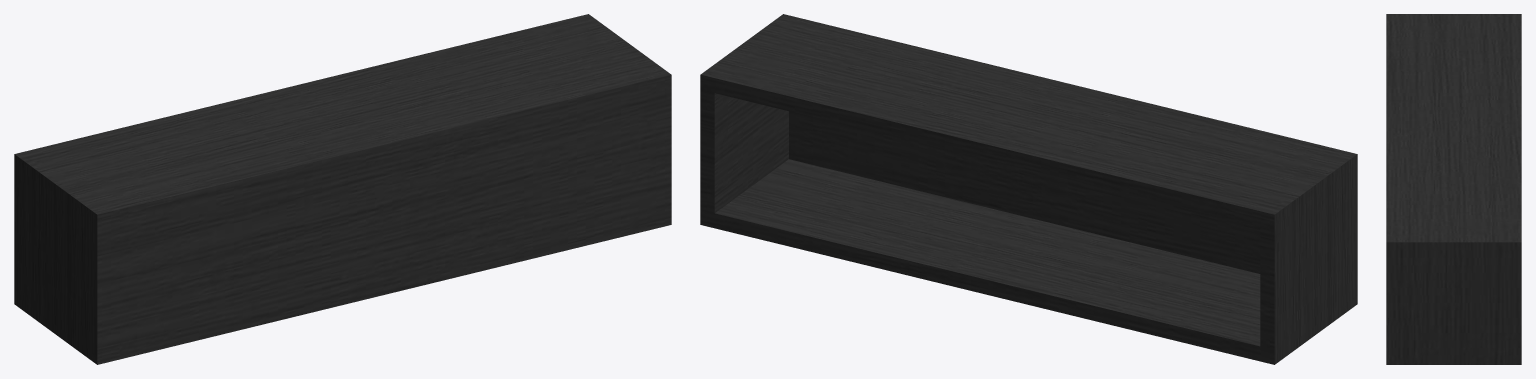
File: LongCabinet.fbx
3 renders of one model, left to right at view 1: azimuth 30°, elevation 25°; view 2: azimuth 150°, elevation 25°; view 3: azimuth 270°, elevation 25°, orthographic. The views are drawn at different scales.
Visible parts, largest first — view 1: LongCabinet; view 2: LongCabinet; view 3: LongCabinet.
Boxes of the visible parts, x1,y1,x2,y2 form: LongCabinet: (14, 14, 671, 364); LongCabinet: (700, 14, 1357, 364); LongCabinet: (1386, 14, 1521, 364).
Size of the model in its own units: 0.02 by 0.005 by 0.005.
